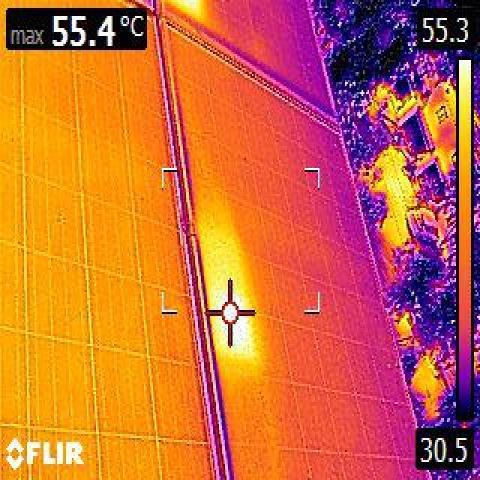fault: (235, 318, 258, 354)
